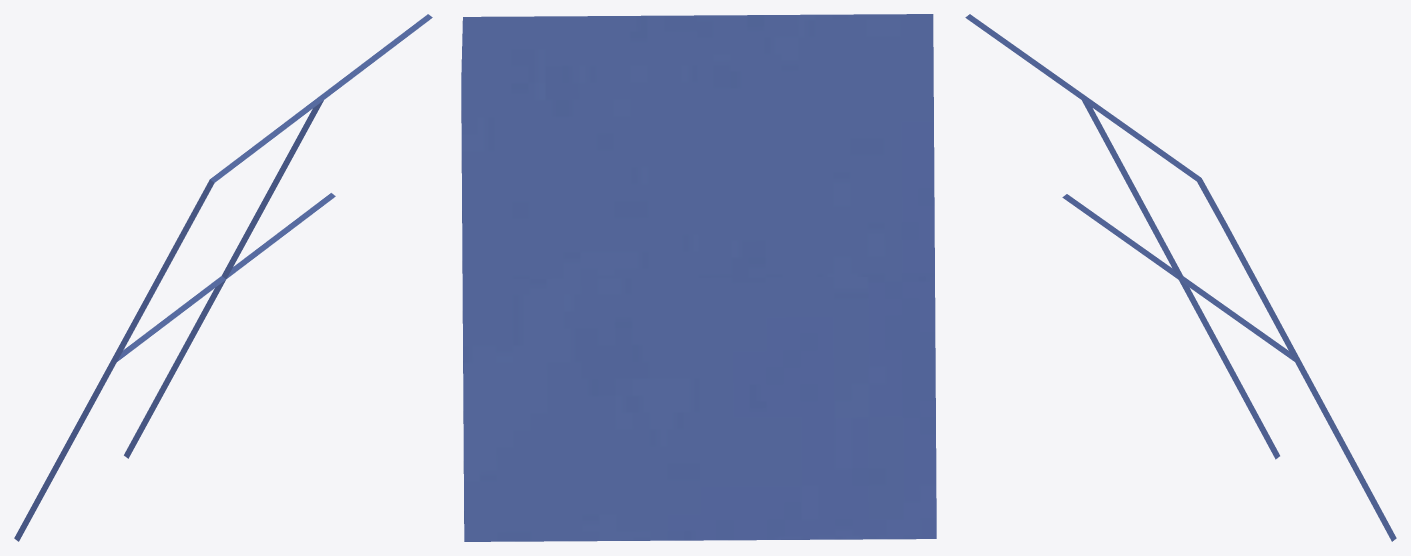
3 views of the same model, side by side, from view 1: azimuth 30°, elevation 25°; view 2: azimuth 150°, elevation 25°; view 3: azimuth 270°, elevation 25° (orthographic). The views are drawn at different scales.
Size of the model in its own units: 19695 by 17635 by 16775.
1 material, 1 textured.
